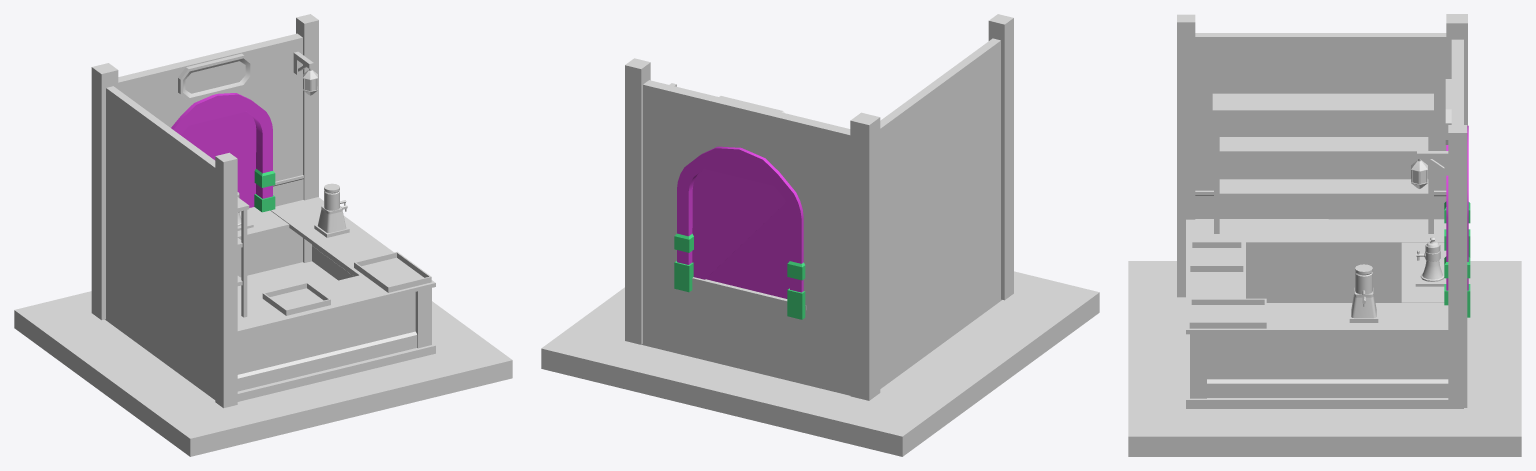
The model's file is Sweets-juice 1.fbx.
The picture shows the model from 3 angles, left to right: view 1: azimuth 30°, elevation 25°; view 2: azimuth 150°, elevation 25°; view 3: azimuth 270°, elevation 25°; orthographic projection. The views are drawn at different scales.
Parts seen in each view (by area): view 1: Cube, Cube.004, Cube.005, Cube.001, Cube.018, Cube.017, Cube.006, Cube.016, Cube.002, Cube.010, Cube.013, Cube.011 (+5 smaller); view 2: Cube, Cube.004, Cube.006, Cube.017, Cube.002, Cube.010, Cube.018, Cube.001; view 3: Cube.004, Cube, Cube.001, Cube.005, Cube.033, Cube.010, Cube.031, Cube.007, Cube.018, Cube.016, Cube.003, Cube.020 (+12 smaller).
Part boxes in pixels (<box>): Cube: <box>105,33,435,401</box>; Cube.004: <box>14,291,512,456</box>; Cube.005: <box>237,244,415,374</box>; Cube.001: <box>237,197,435,334</box>; Cube.018: <box>215,152,237,408</box>; Cube.017: <box>91,63,118,320</box>; Cube.006: <box>181,105,256,207</box>; Cube.016: <box>237,249,417,391</box>; Cube.002: <box>171,93,275,212</box>; Cube.010: <box>296,14,318,262</box>; Cube.013: <box>178,53,252,100</box>; Cube.011: <box>354,251,431,292</box>; Cube: <box>642,38,1002,395</box>; Cube.004: <box>541,271,1099,456</box>; Cube.006: <box>692,160,789,298</box>; Cube.017: <box>850,112,880,400</box>; Cube.002: <box>674,146,805,319</box>; Cube.010: <box>625,58,650,344</box>; Cube.018: <box>988,14,1013,300</box>; Cube.001: <box>692,277,806,310</box>; Cube.004: <box>1128,261,1521,456</box>; Cube: <box>1186,33,1463,408</box>; Cube.001: <box>1186,219,1448,334</box>; Cube.005: <box>1207,334,1448,379</box>; Cube.033: <box>1246,246,1401,302</box>; Cube.010: <box>1448,125,1467,407</box>; Cube.031: <box>1195,190,1446,219</box>; Cube.007: <box>1212,93,1433,114</box>; Cube.018: <box>1177,14,1195,297</box>; Cube.016: <box>1207,379,1448,397</box>; Cube.003: <box>1219,137,1428,155</box>; Cube.020: <box>1219,179,1428,197</box>.
Size of the model in its own units: 677 by 532 by 640.
